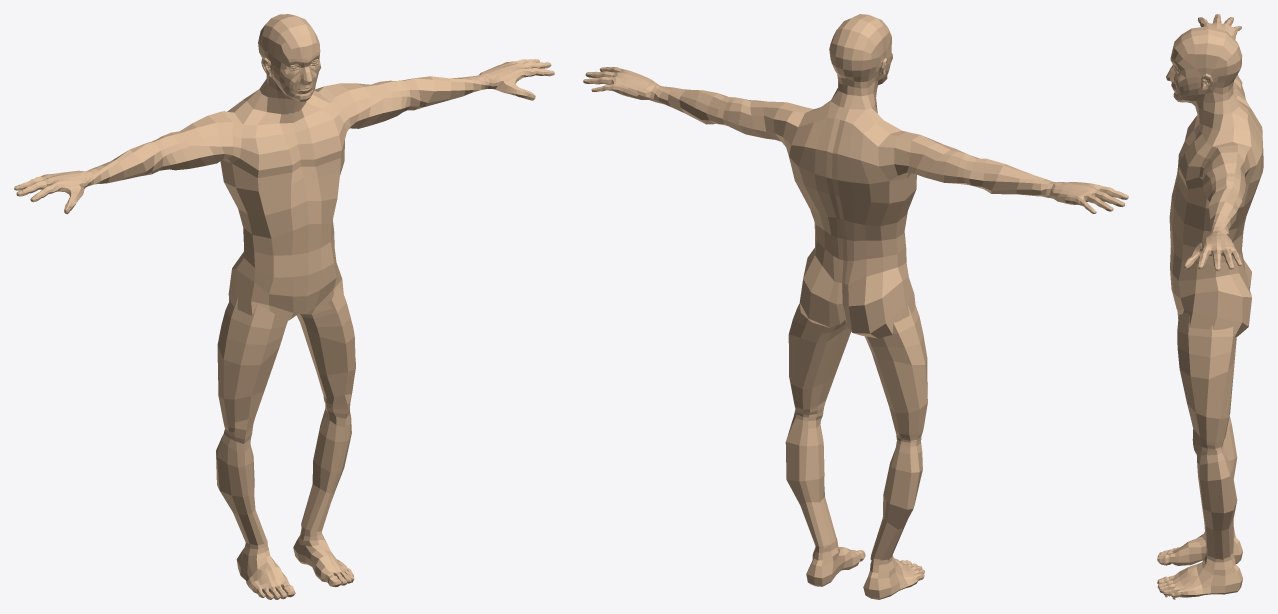
The model's file is Rickets1.2.gltf.
3 renders of one model, left to right at view 1: azimuth 30°, elevation 25°; view 2: azimuth 150°, elevation 25°; view 3: azimuth 270°, elevation 25°, orthographic. The views are drawn at different scales.
Parts seen in each view (by area): view 1: Man_Simple, right leg, Left leg.001, Man_Simple.001, Man_Simple.002; view 2: Man_Simple, Left leg.001, right leg, Man_Simple.001, Man_Simple.002; view 3: Man_Simple, Left leg.001, Man_Simple.002, Man_Simple.001, right leg.
Part boxes in pixels (x1,y1,x2,y2): Man_Simple: (14, 14, 554, 582); right leg: (216, 297, 287, 545); Left leg.001: (296, 286, 355, 531); Man_Simple.001: (236, 540, 295, 599); Man_Simple.002: (293, 526, 354, 587); Man_Simple: (583, 14, 1128, 338); Left leg.001: (785, 303, 851, 547); right leg: (864, 304, 927, 560); Man_Simple.001: (863, 555, 924, 599); Man_Simple.002: (806, 538, 865, 586); Man_Simple: (1165, 14, 1263, 599); Left leg.001: (1177, 312, 1237, 559); Man_Simple.002: (1157, 552, 1242, 597); Man_Simple.001: (1157, 527, 1242, 565); right leg: (1223, 417, 1237, 478).
Bounding box in the file's own units: 10.35 × 10.38 × 1.83.
